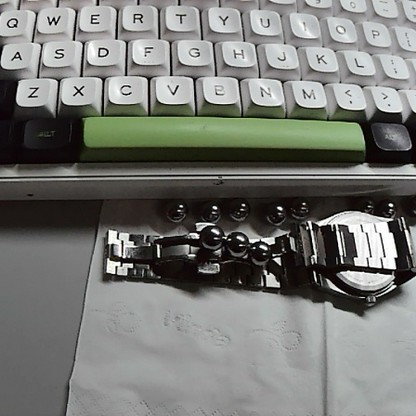ironball: (197, 222, 226, 251), (222, 225, 247, 255), (163, 197, 191, 223), (266, 200, 291, 225), (226, 198, 253, 221), (356, 195, 378, 221), (286, 195, 310, 218), (377, 195, 400, 218), (200, 198, 221, 222), (251, 240, 268, 262)
